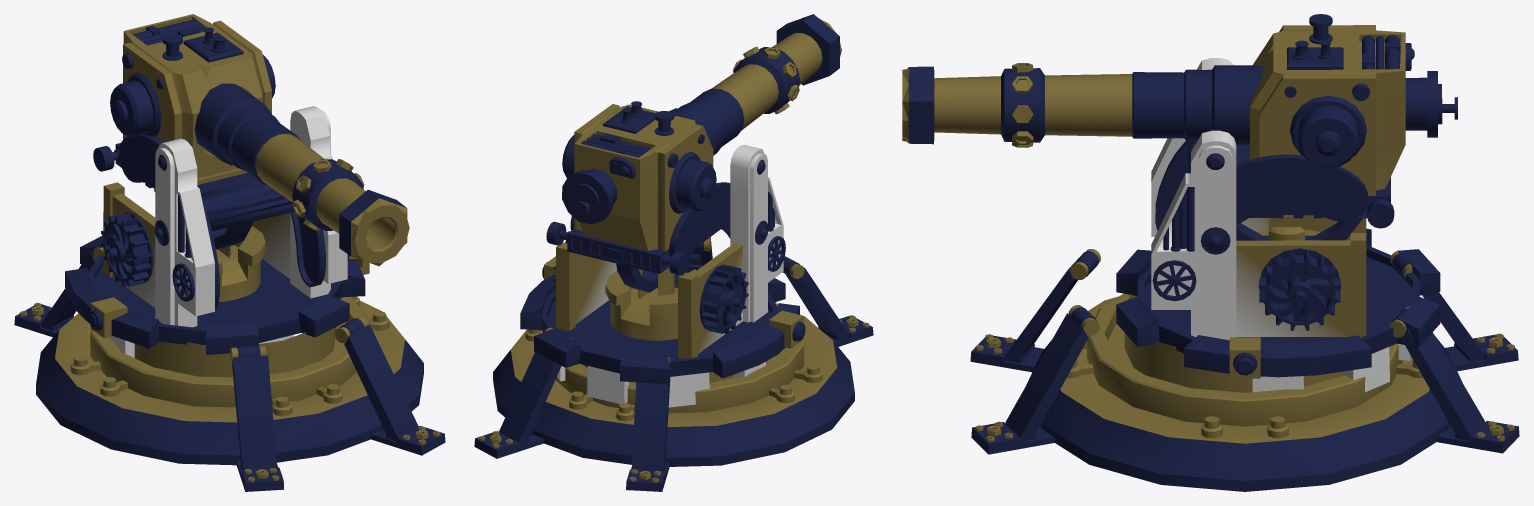
Rendered from tower_cannon.fbx.
The picture shows the model from 3 angles, left to right: view 1: azimuth 30°, elevation 25°; view 2: azimuth 150°, elevation 25°; view 3: azimuth 270°, elevation 25°; orthographic projection. The views are drawn at different scales.
Visible parts, largest first — view 1: tower_cannon_stand, tower_cannon_cannon, tower_cannon_rack, tower_cannon_emissionPart_2; view 2: tower_cannon_stand, tower_cannon_cannon, tower_cannon_rack, tower_cannon_emissionPart_1, tower_cannon_emissionPart_2; view 3: tower_cannon_stand, tower_cannon_cannon, tower_cannon_rack, tower_cannon_emissionPart_1, tower_cannon_emissionPart_2.
Boxes of the visible parts, left/top/right/bottom form: tower_cannon_stand: left=14, top=235, right=445, bottom=491; tower_cannon_cannon: left=93, top=14, right=409, bottom=266; tower_cannon_rack: left=101, top=106, right=349, bottom=327; tower_cannon_emissionPart_2: left=120, top=56, right=396, bottom=249; tower_cannon_stand: left=474, top=237, right=873, bottom=491; tower_cannon_cannon: left=546, top=14, right=841, bottom=292; tower_cannon_rack: left=553, top=144, right=785, bottom=358; tower_cannon_emissionPart_1: left=557, top=361, right=765, bottom=407; tower_cannon_emissionPart_2: left=563, top=136, right=706, bottom=211; tower_cannon_stand: left=970, top=228, right=1519, bottom=491; tower_cannon_cannon: left=902, top=14, right=1457, bottom=240; tower_cannon_rack: left=1151, top=58, right=1367, bottom=340; tower_cannon_emissionPart_1: left=1252, top=344, right=1410, bottom=392; tower_cannon_emissionPart_2: left=1132, top=66, right=1358, bottom=140.
Bounding box in the file's own units: 0.6086 × 0.5603 × 0.8534.
